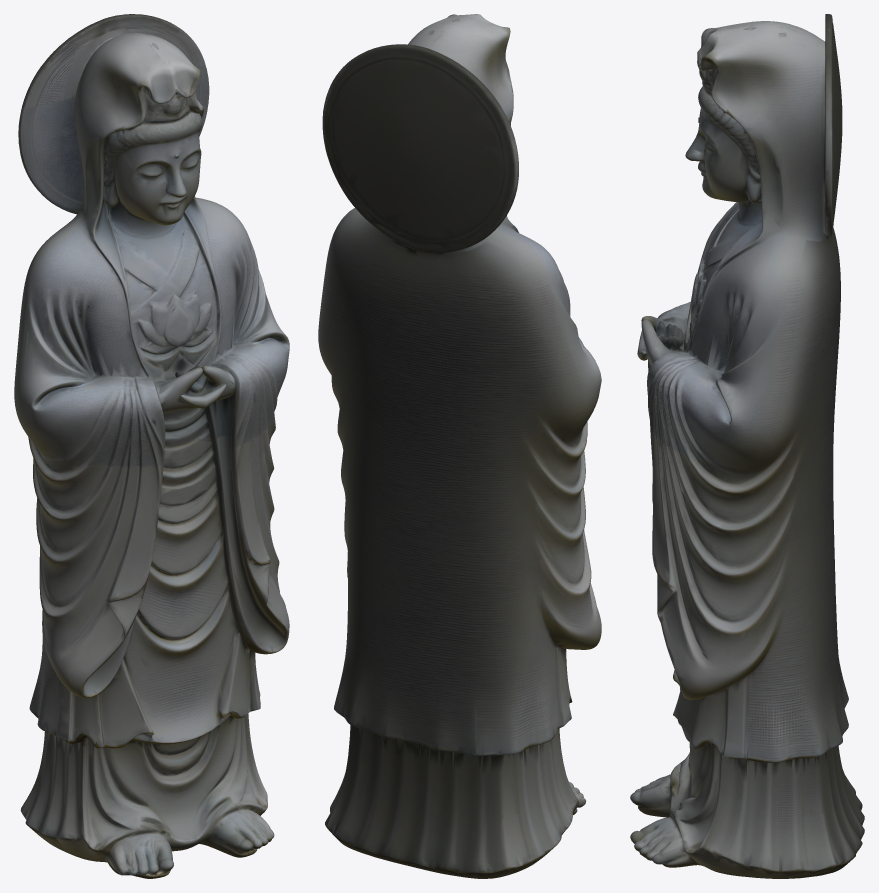
The picture shows the model from 3 angles, left to right: view 1: azimuth 30°, elevation 25°; view 2: azimuth 150°, elevation 25°; view 3: azimuth 270°, elevation 25°; orthographic projection. The views are drawn at different scales.
Parts seen in each view (by area): view 1: convert; view 2: convert; view 3: convert.
Boxes of the visible parts, <box> form: convert: <box>14,14,289,878</box>; convert: <box>318,14,601,878</box>; convert: <box>630,14,864,878</box>.
Bounding box in the file's own units: 0.3982 × 1.16 × 0.3037.
Materials: 1 (1 with a texture image).
